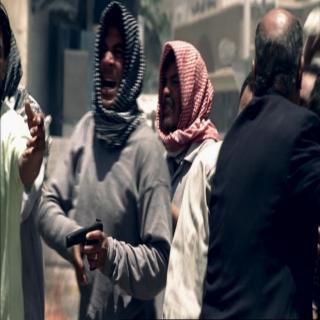gun: (62, 214, 115, 278)
